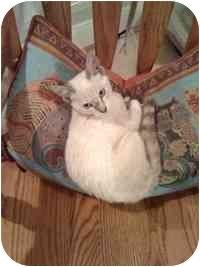siamese: (49, 47, 120, 123)
